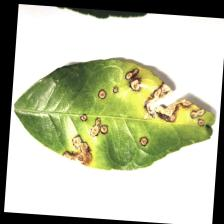canker: (61, 59, 213, 166)
